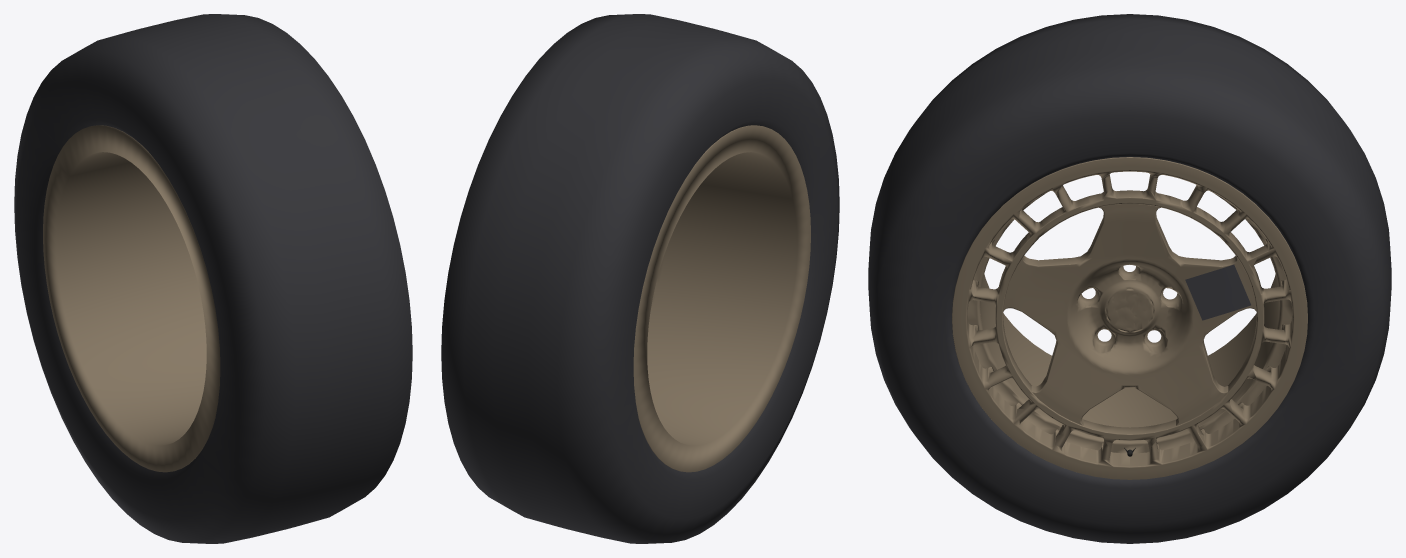
The model's file is wh_fifteen52.glb.
The picture shows the model from 3 angles, left to right: view 1: azimuth 30°, elevation 25°; view 2: azimuth 150°, elevation 25°; view 3: azimuth 270°, elevation 25°; orthographic projection.
Parts seen in each view (by area): view 1: wheel; view 2: wheel; view 3: wheel.
Part boxes in pixels (x1,y1,x2,y2): wheel: (14,14,412,543); wheel: (441,14,839,543); wheel: (868,14,1391,543).
Size of the model in its own units: 0.7549 by 2 by 2.
